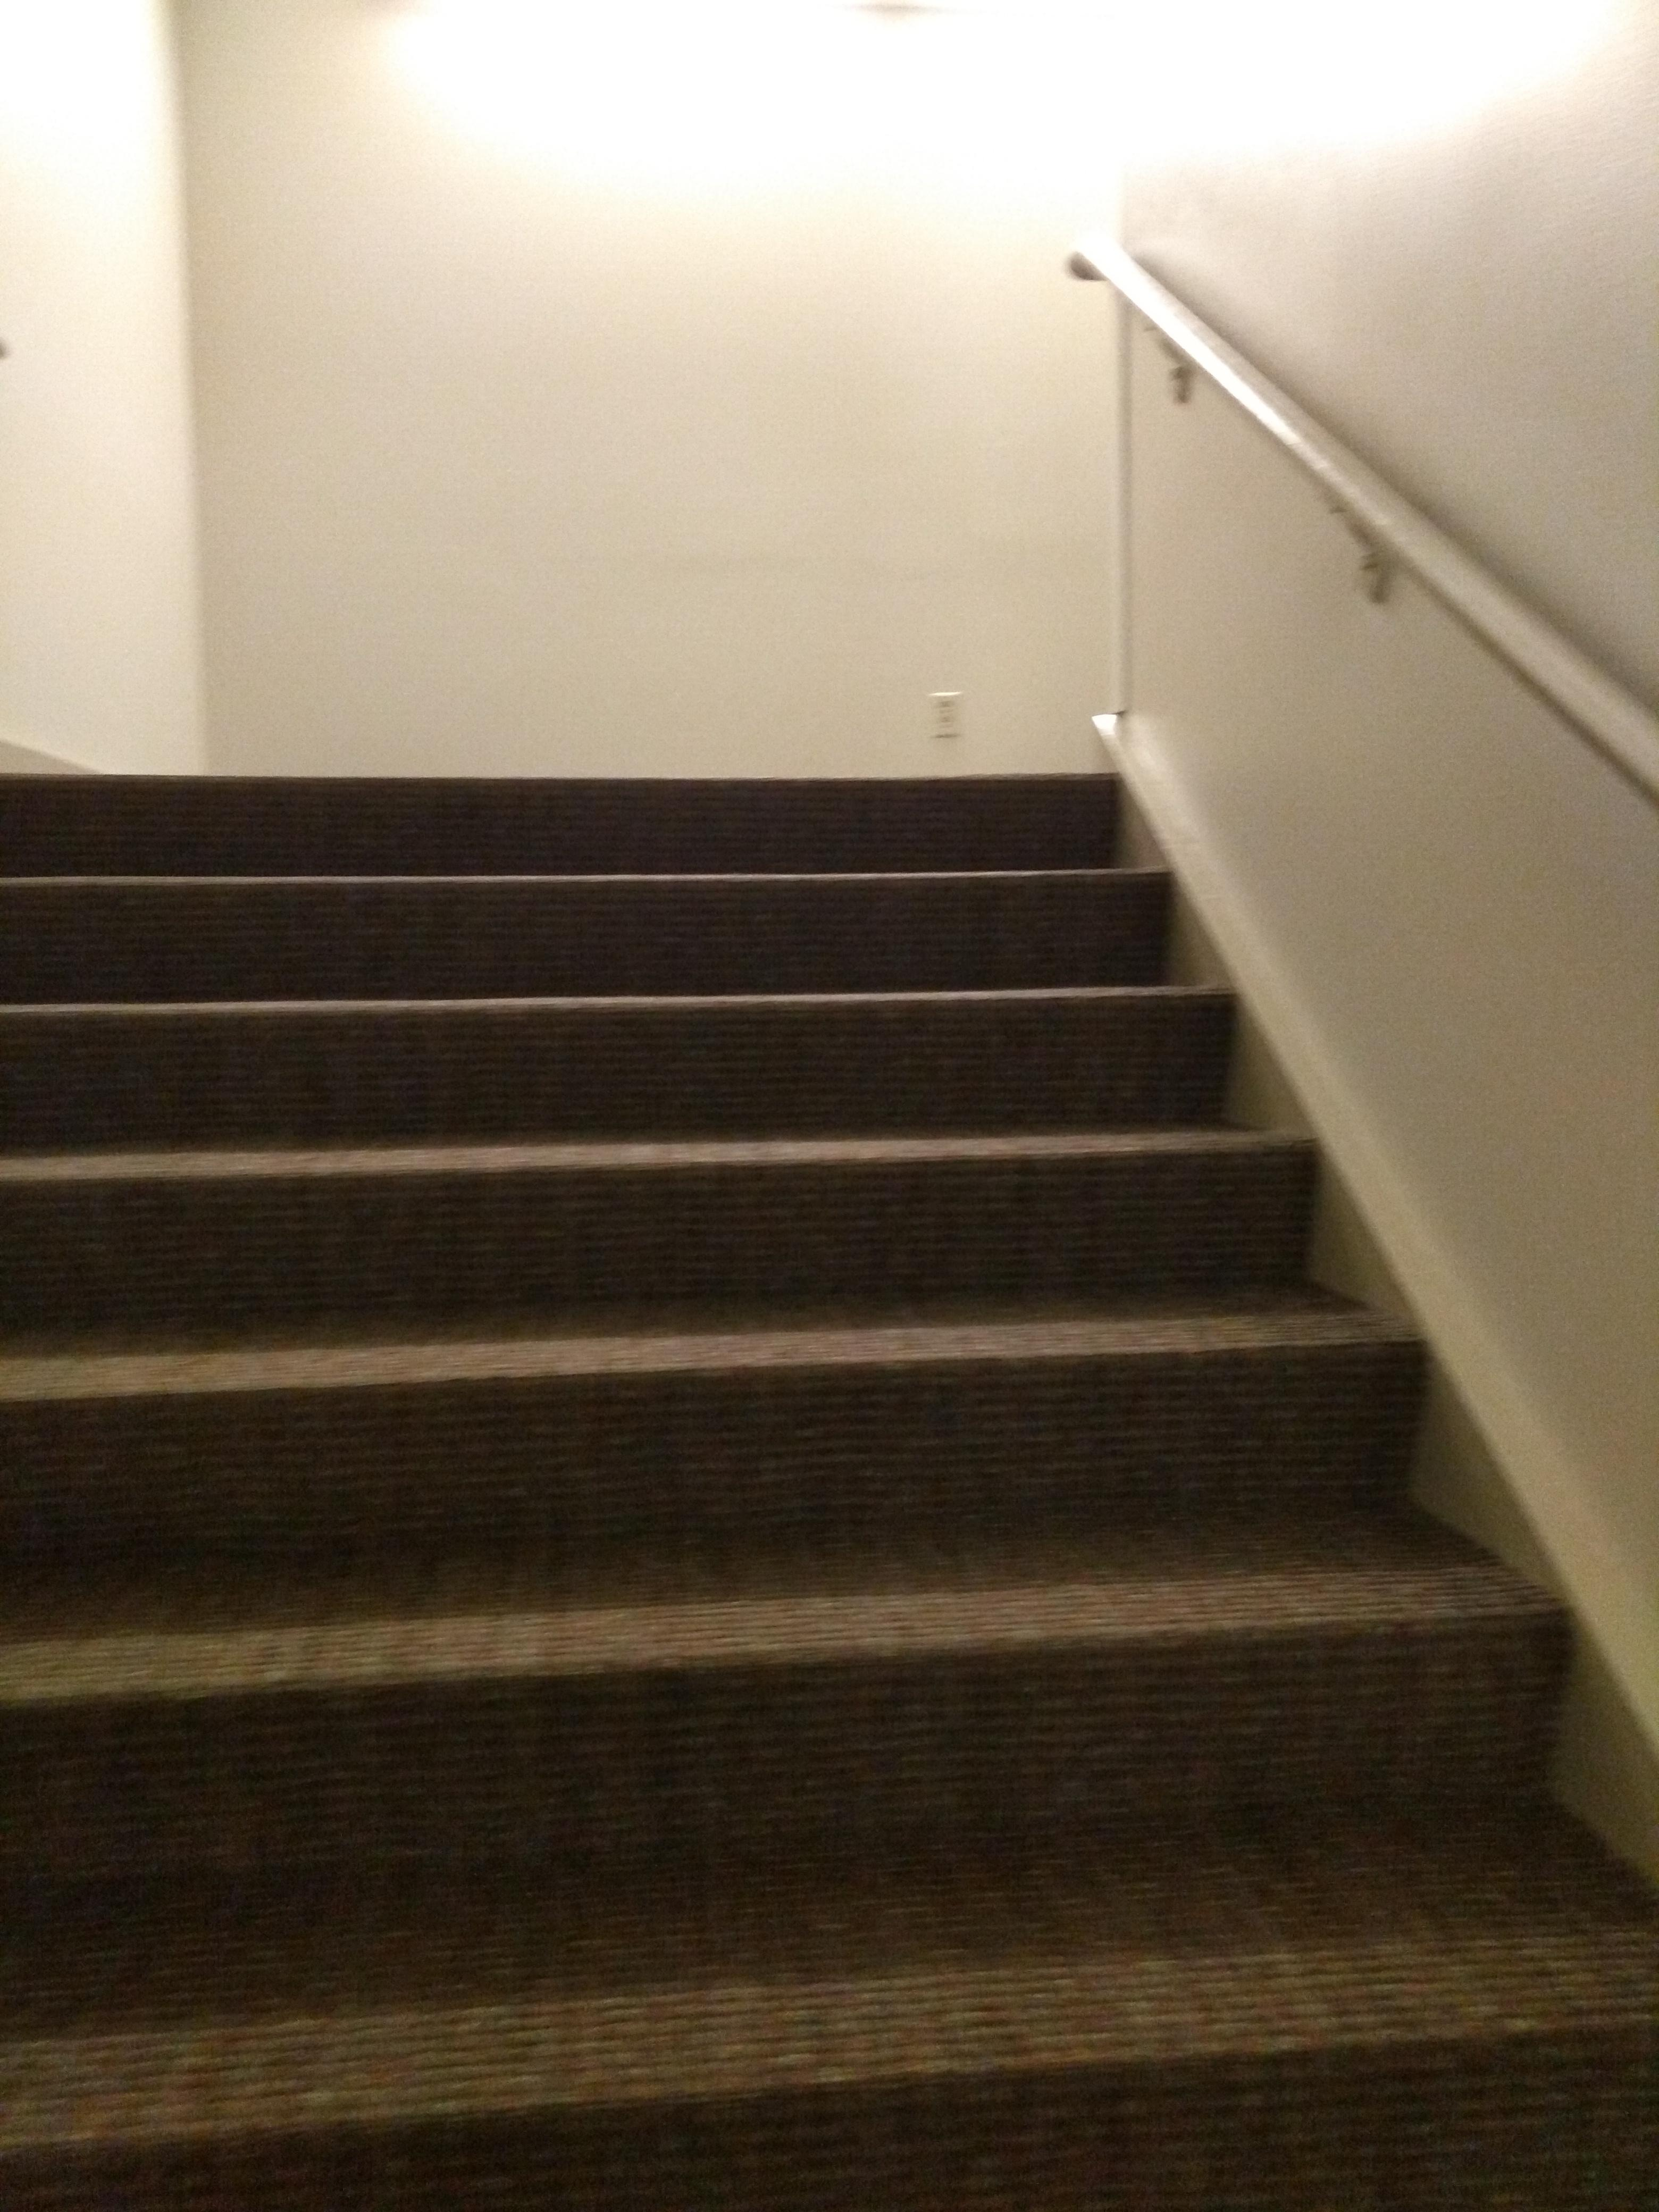stairs_up: (12, 744, 1640, 2114)
